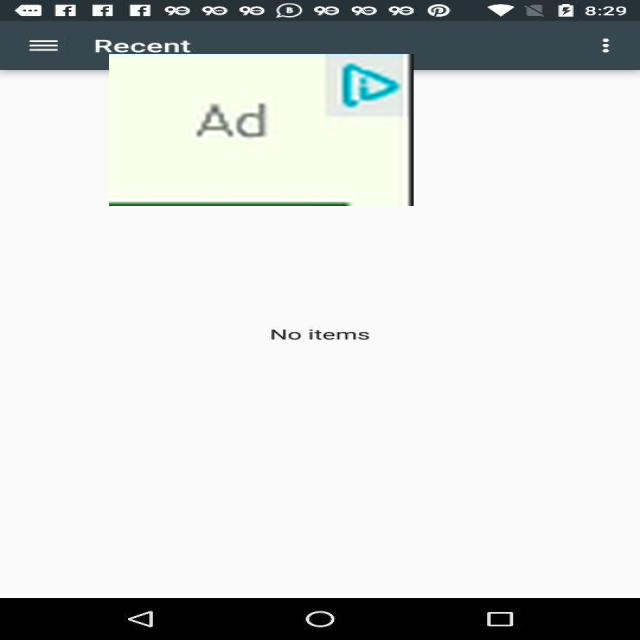sneaking: (109, 54, 414, 206)
